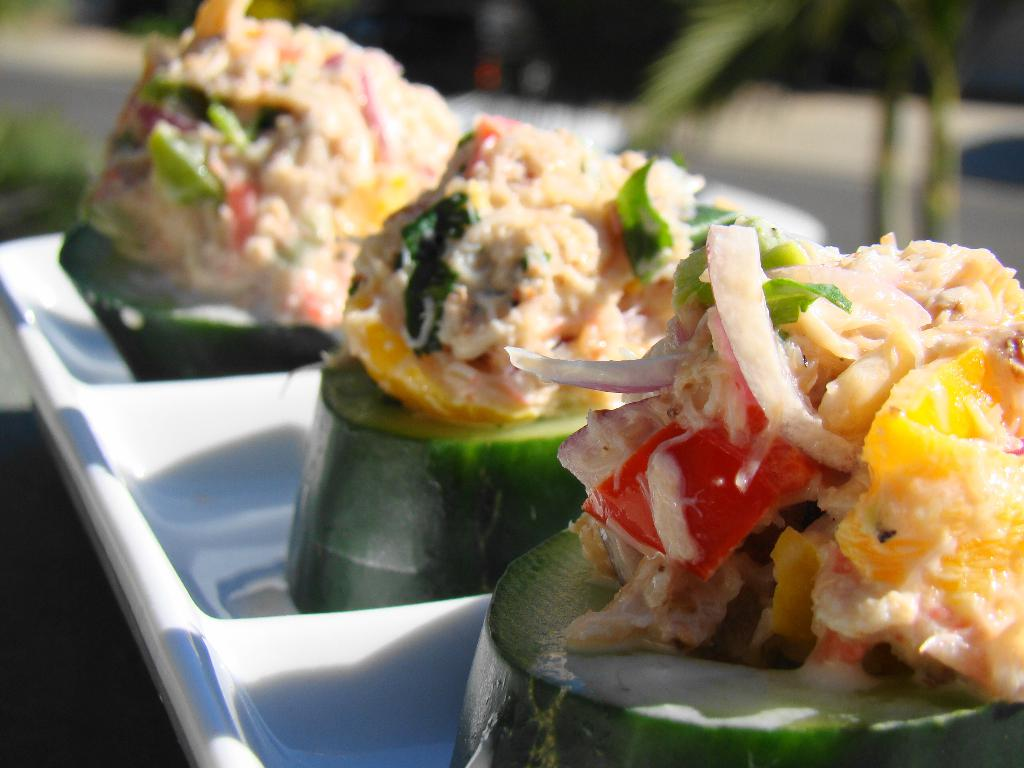salad: (495, 223, 1023, 682), (300, 98, 824, 443), (50, 0, 459, 332)
